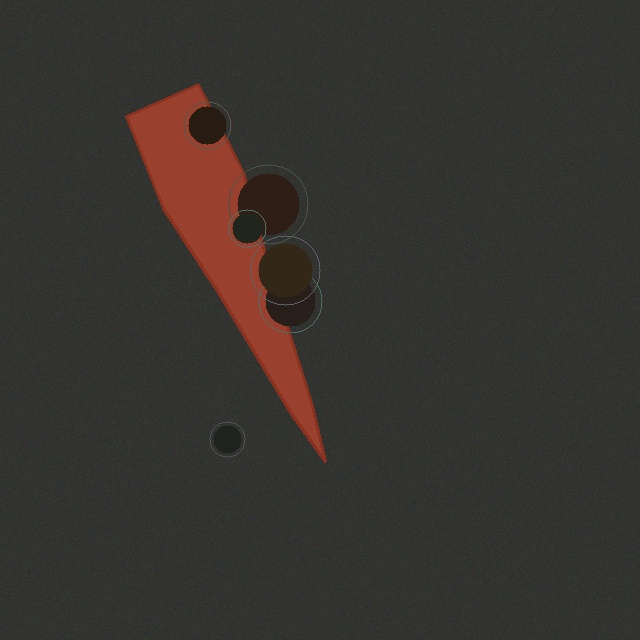Rotten_Carrot: (118, 76, 333, 469)
